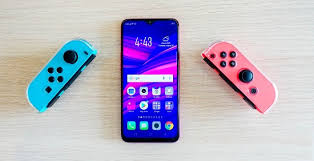oppo: (117, 12, 184, 147)
